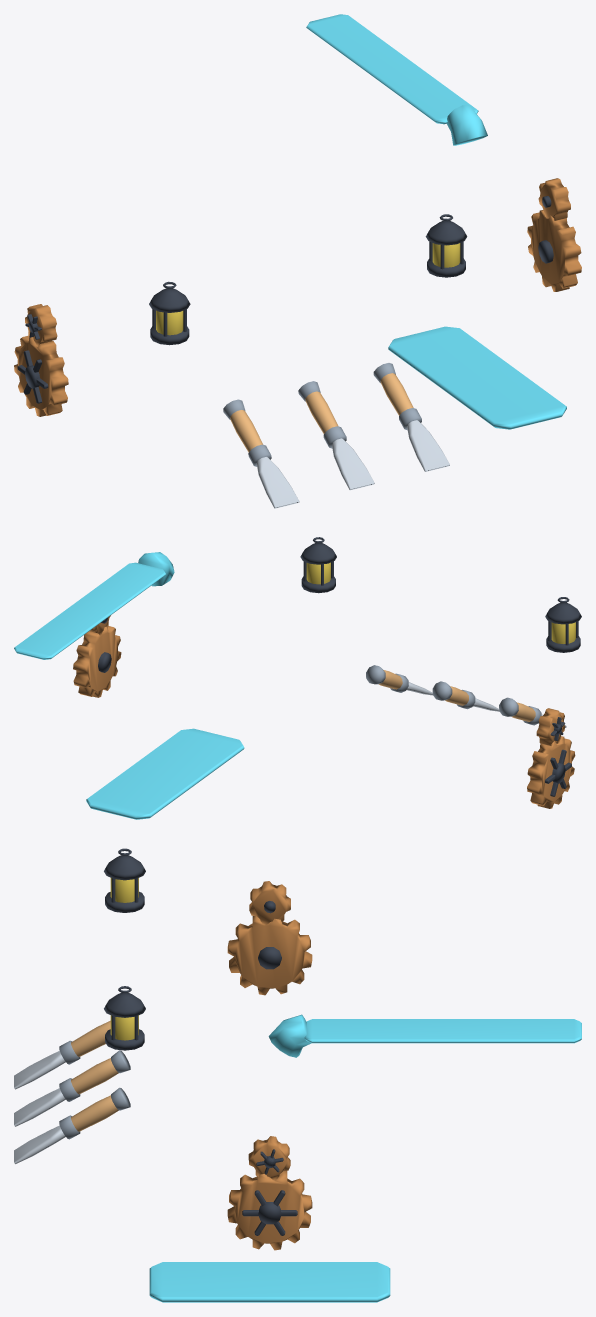
The model's file is ChiselMill_T1_Upgrades.fbx.
3 renders of one model, top to bottom at view 1: azimuth 30°, elevation 25°; view 2: azimuth 150°, elevation 25°; view 3: azimuth 270°, elevation 25°, orthographic. The views are drawn at different scales.
Parts seen in each view (by area): view 1: ChiselMillT1U5GlowWaterGlow, ChiselMillT1U1Chisels, ChiselMillT1U3Gear1, ChiselMillT1U3Gear2, ChiselMillT1U2Lamp2, ChiselMillT1U2Lamp1, ChiselMillT1U3Pinion2, ChiselMillT1U3Pinion1; view 2: ChiselMillT1U5GlowWaterGlow, ChiselMillT1U1Chisels, ChiselMillT1U3Gear2, ChiselMillT1U3Gear1, ChiselMillT1U2Lamp1, ChiselMillT1U2Lamp2, ChiselMillT1U3Pinion1, ChiselMillT1U2Lamp1Glow, ChiselMillT1U2Lamp2Glow; view 3: ChiselMillT1U5GlowWaterGlow, ChiselMillT1U1Chisels, ChiselMillT1U3Gear2, ChiselMillT1U3Gear1, ChiselMillT1U2Lamp2, ChiselMillT1U2Lamp1, ChiselMillT1U3Pinion2, ChiselMillT1U3Pinion1.
Part boxes in pixels (x1,y1,x2,y2): ChiselMillT1U5GlowWaterGlow: [306, 14, 566, 429]; ChiselMillT1U1Chisels: [223, 363, 449, 508]; ChiselMillT1U3Gear1: [14, 335, 68, 416]; ChiselMillT1U3Gear2: [527, 210, 581, 291]; ChiselMillT1U2Lamp2: [425, 214, 467, 277]; ChiselMillT1U2Lamp1: [149, 281, 190, 345]; ChiselMillT1U3Pinion2: [538, 178, 570, 220]; ChiselMillT1U3Pinion1: [25, 304, 57, 346]; ChiselMillT1U5GlowWaterGlow: [14, 552, 244, 819]; ChiselMillT1U1Chisels: [366, 665, 566, 727]; ChiselMillT1U3Gear2: [73, 626, 121, 697]; ChiselMillT1U3Gear1: [527, 736, 575, 808]; ChiselMillT1U2Lamp1: [545, 597, 581, 652]; ChiselMillT1U2Lamp2: [300, 537, 336, 593]; ChiselMillT1U3Pinion1: [536, 708, 565, 745]; ChiselMillT1U2Lamp1Glow: [551, 622, 575, 643]; ChiselMillT1U2Lamp2Glow: [306, 562, 330, 584]; ChiselMillT1U5GlowWaterGlow: [149, 1014, 581, 1302]; ChiselMillT1U1Chisels: [14, 1020, 130, 1164]; ChiselMillT1U3Gear2: [227, 1171, 312, 1250]; ChiselMillT1U3Gear1: [227, 916, 312, 995]; ChiselMillT1U2Lamp2: [104, 986, 145, 1050]; ChiselMillT1U2Lamp1: [104, 848, 145, 912]; ChiselMillT1U3Pinion2: [248, 1136, 290, 1179]; ChiselMillT1U3Pinion1: [249, 881, 290, 924].
Bounding box in the file's own units: 341 × 161 × 308.
